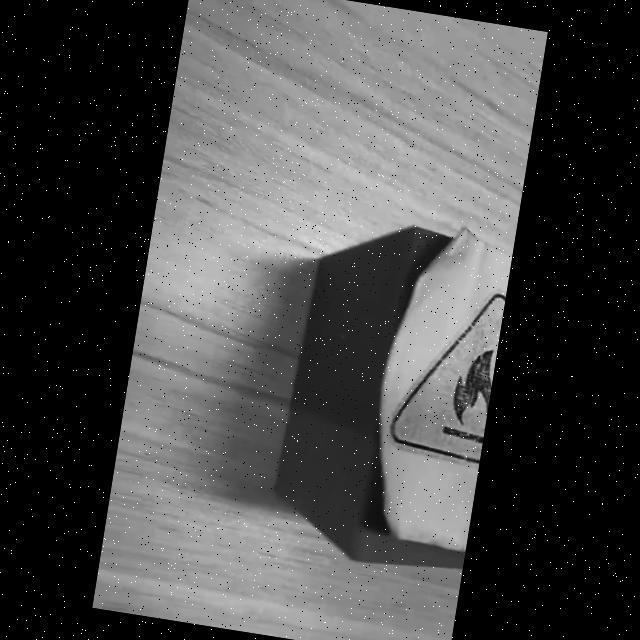Fire: (393, 294, 505, 465)
